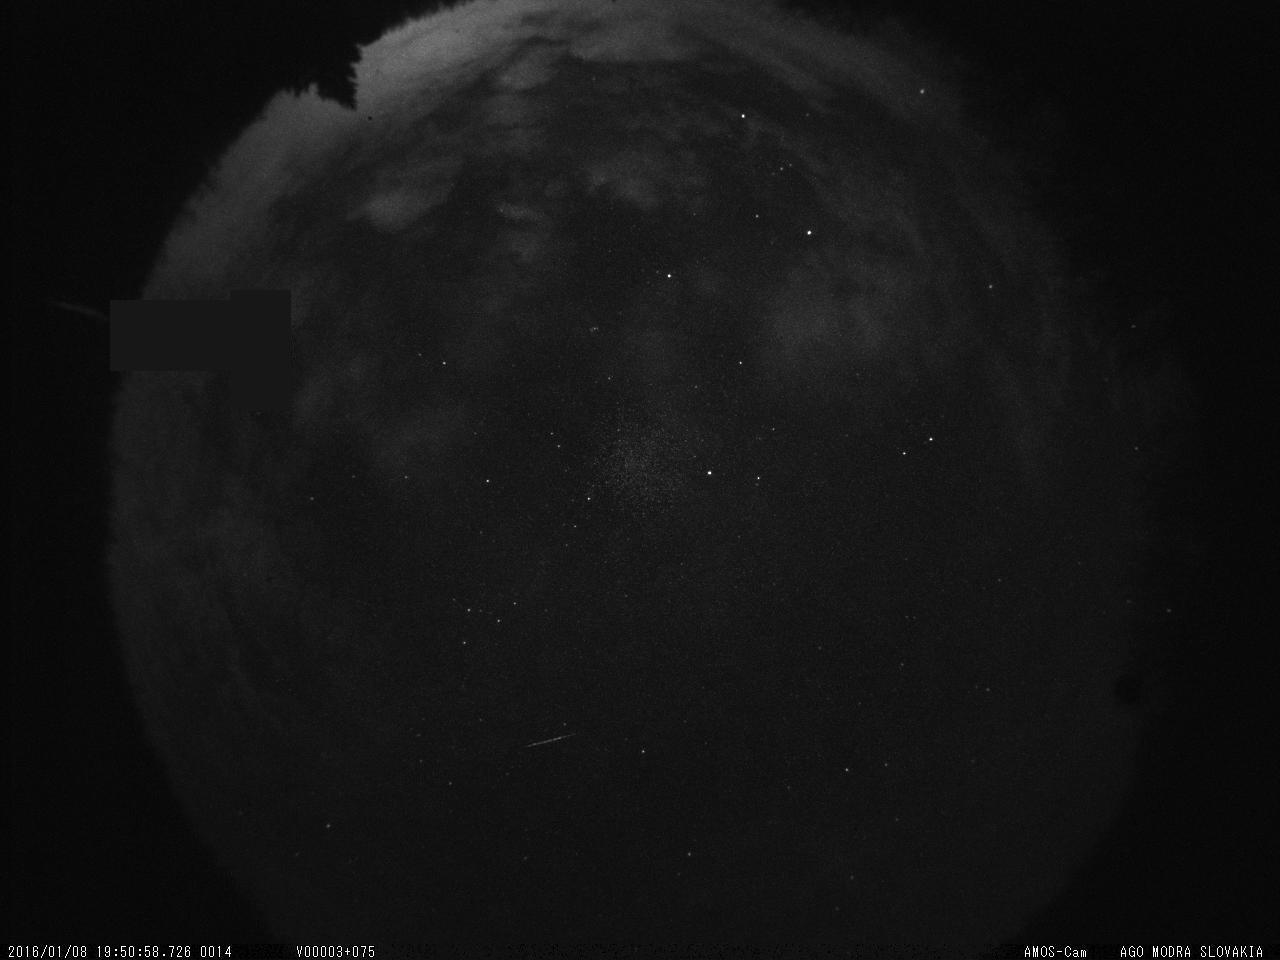meteor: (513, 726, 588, 755)
